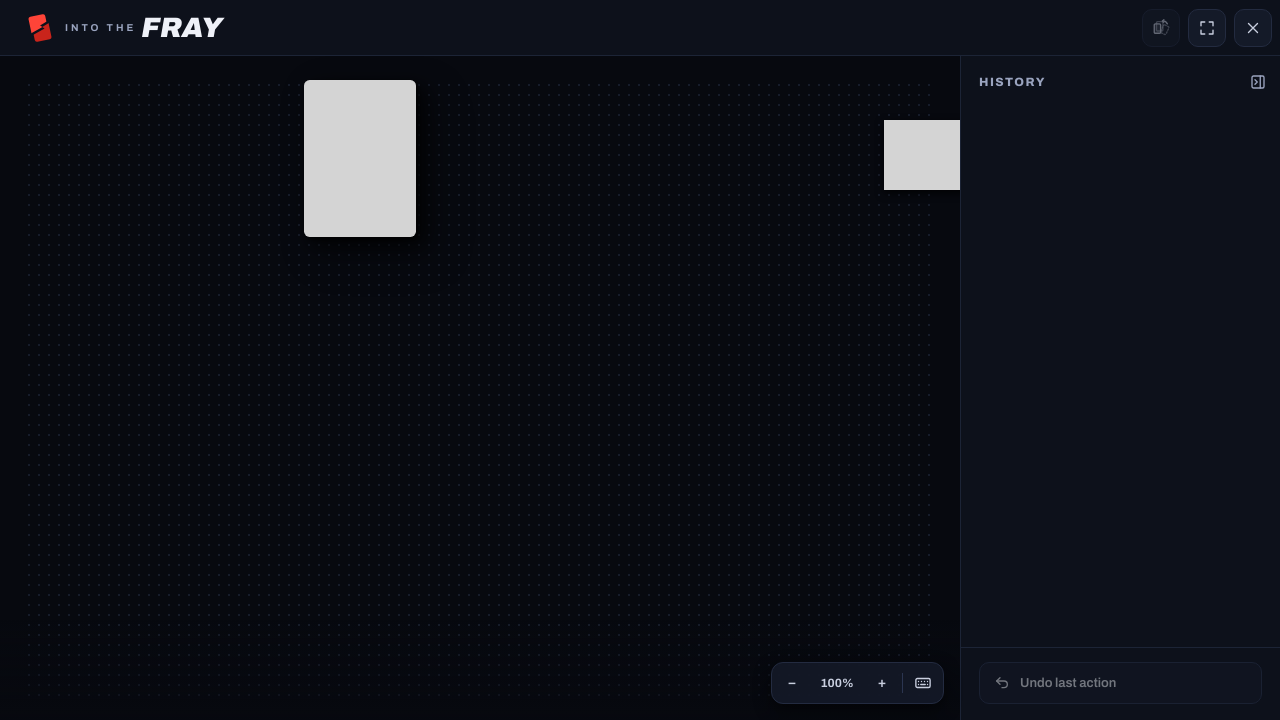
Test: the sheet on the table › ? or the keyboard button opens it; ? closes it again
expect the dialog "Keyboard shortcuts" is not shown: met
Press ?
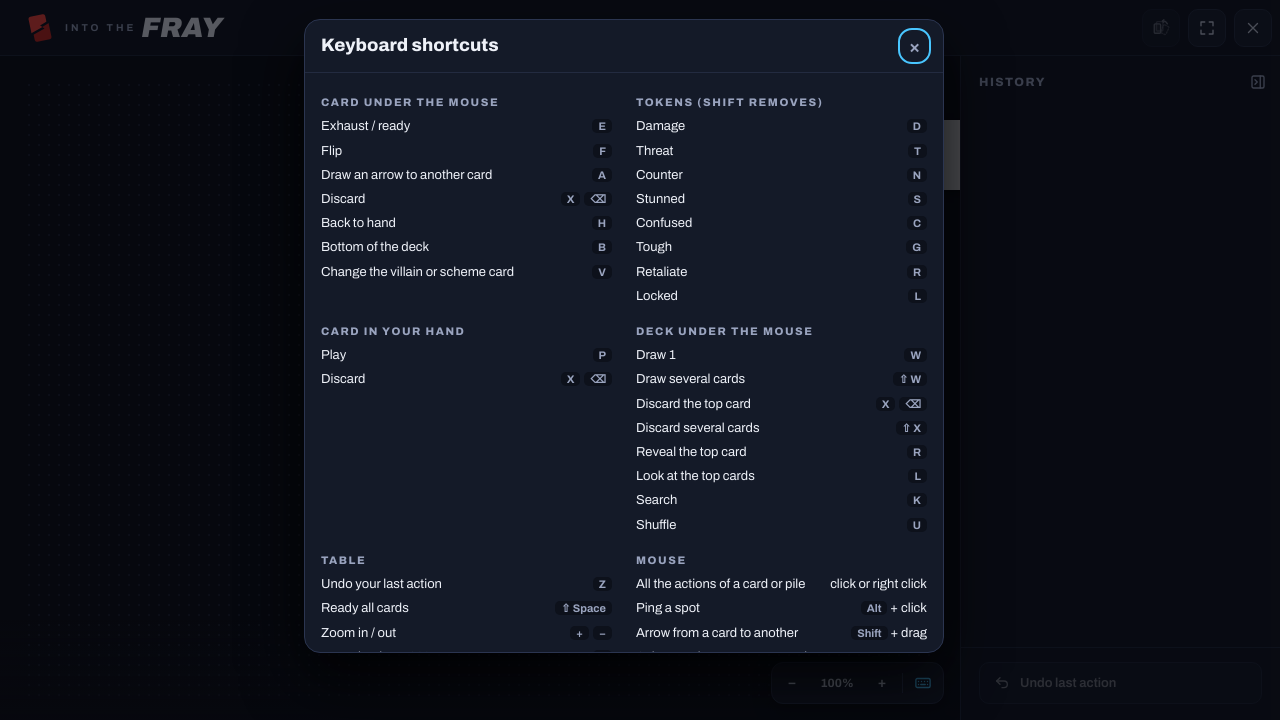
expect the dialog "Keyboard shortcuts" is shown: met, box [304, 19, 944, 653]
Press ? in the button "×", box [902, 32, 927, 60]
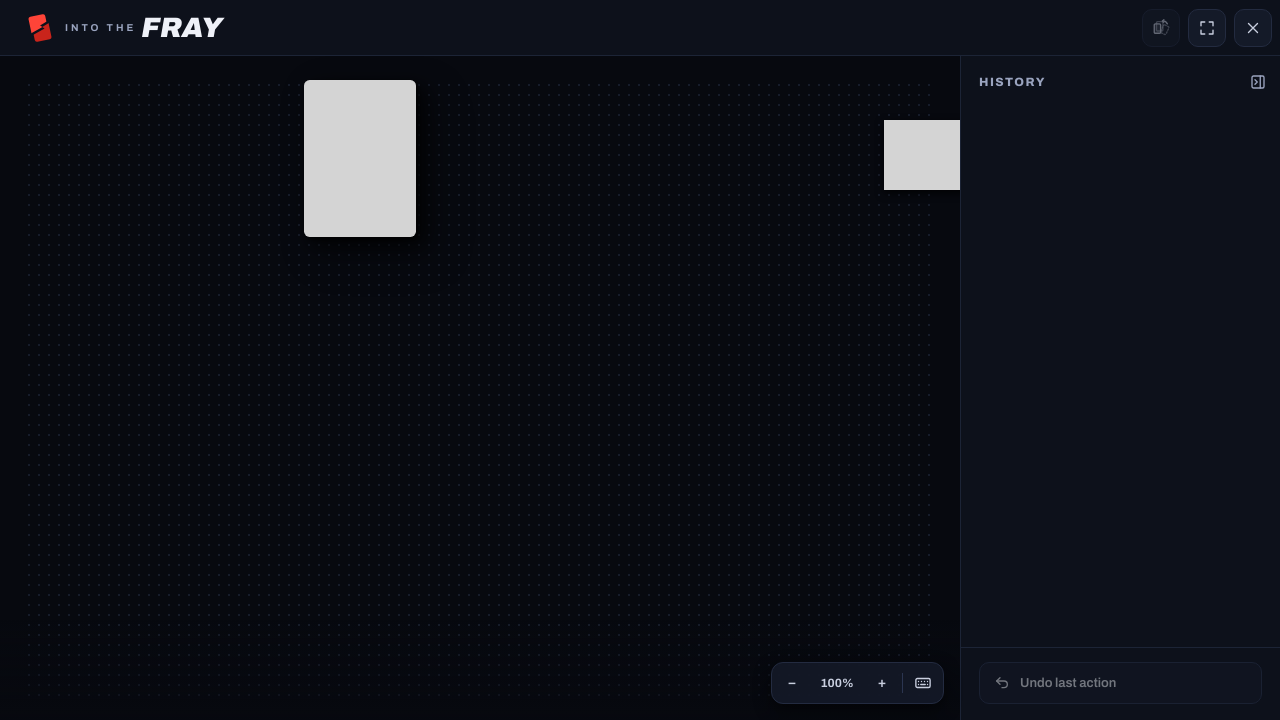
expect the text "Keyboard shortcuts" is gone: met
Click the button named "Keyboard shortcuts": (923,683) [907, 667, 939, 699]
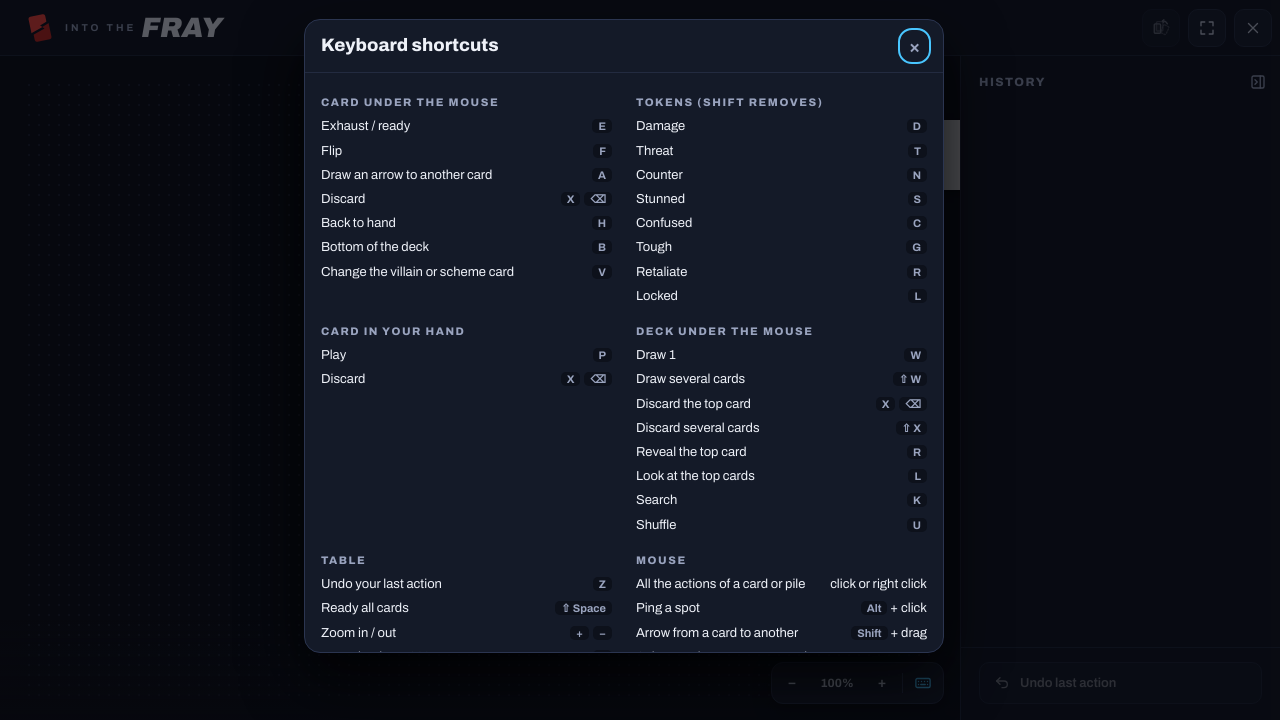
expect the dialog "Keyboard shortcuts" is shown: met, box [304, 19, 944, 653]
expect the button named "Keyboard shortcuts" is expanded: met, box [907, 667, 939, 699]
